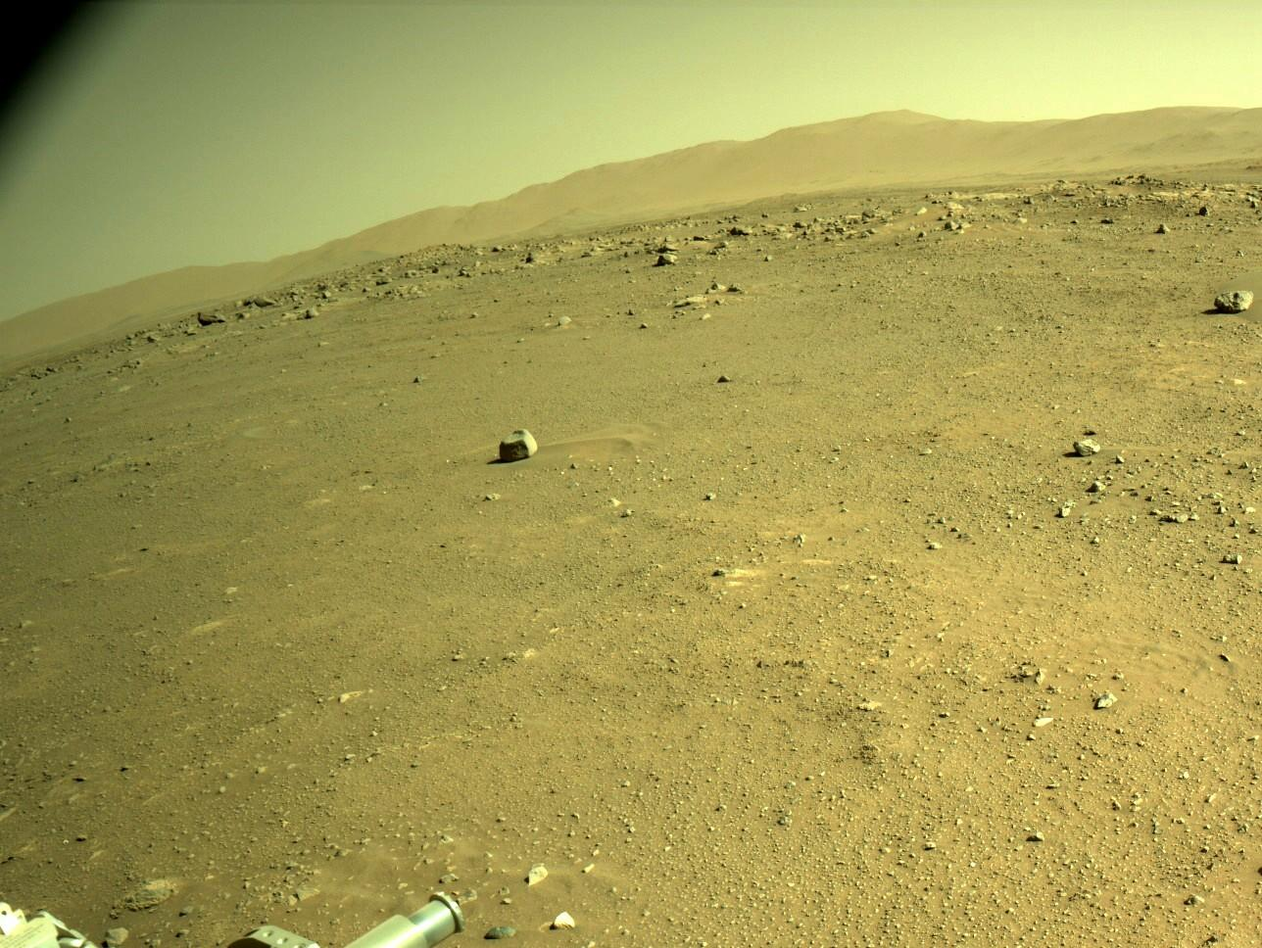bedrock: (18, 161, 1257, 363), (682, 251, 749, 262)
big_rock: (856, 192, 865, 193)
soil: (1, 186, 1261, 947)
